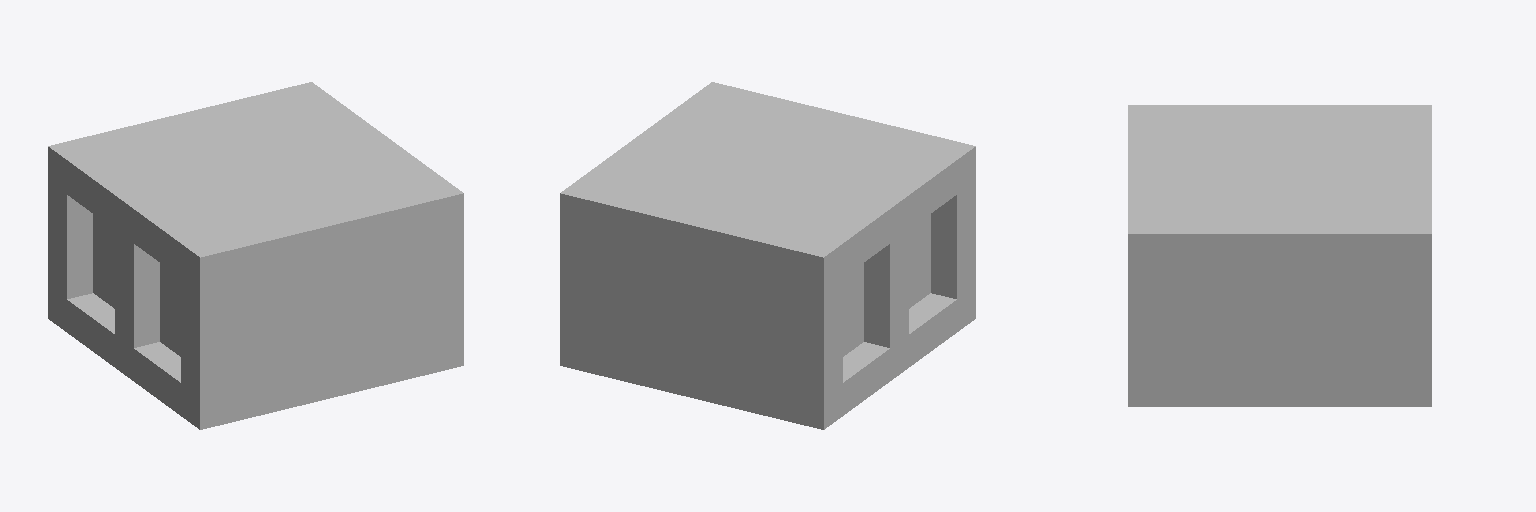
3 renders of one model, left to right at view 1: azimuth 30°, elevation 25°; view 2: azimuth 150°, elevation 25°; view 3: azimuth 270°, elevation 25°, orthographic.
Parts seen in each view (by area): view 1: G-__555870_G-__555870_Brick, G-__555870_G-__555870_Glass; view 2: G-__555870_G-__555870_Brick, G-__555870_G-__555870_Glass; view 3: G-__555870_G-__555870_Brick.
Boxes of the visible parts, x1,y1,x2,y2 form: G-__555870_G-__555870_Brick: [48, 82, 463, 429]; G-__555870_G-__555870_Glass: [93, 214, 180, 356]; G-__555870_G-__555870_Brick: [560, 82, 975, 429]; G-__555870_G-__555870_Glass: [843, 214, 930, 356]; G-__555870_G-__555870_Brick: [1128, 105, 1431, 406].
Bounding box in the file's own units: 1 × 0.625 × 1.